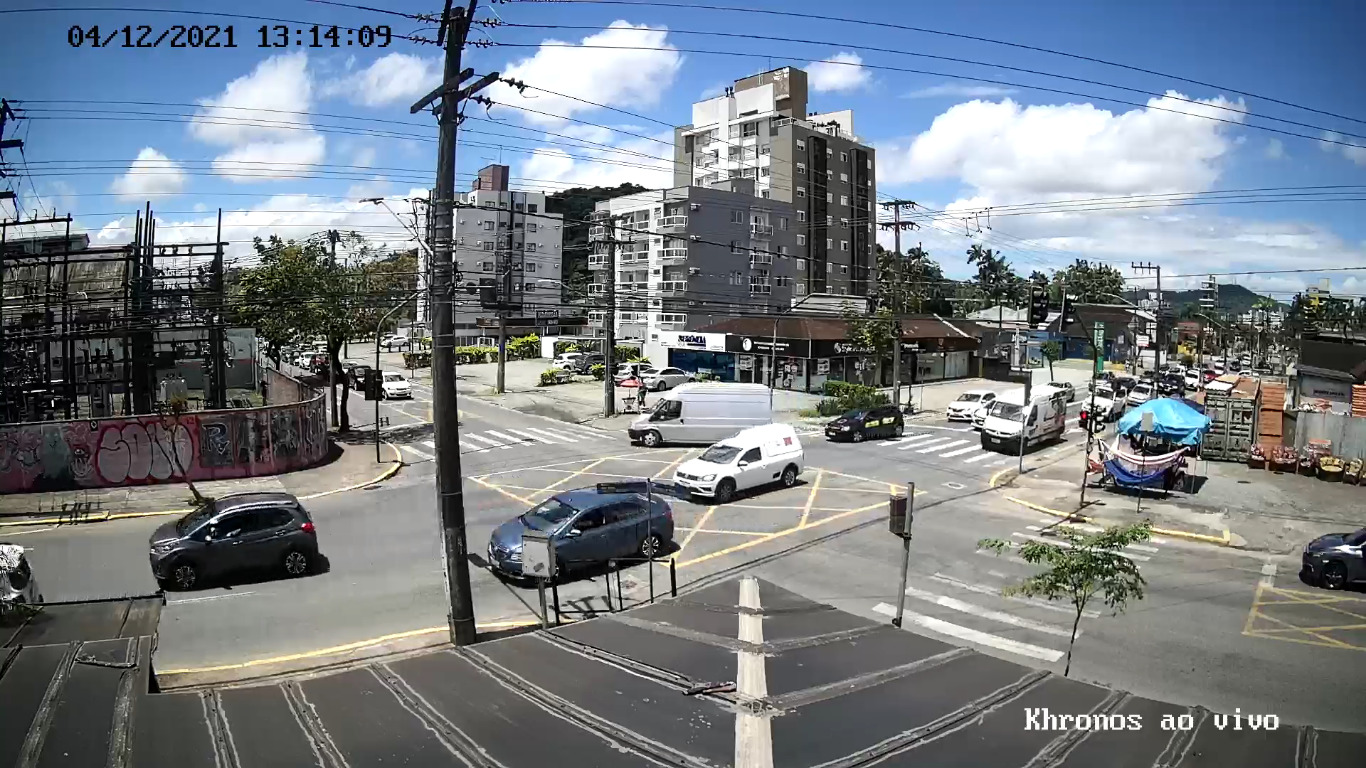car: (487, 483, 673, 586), (150, 491, 321, 587), (672, 422, 803, 504), (1303, 526, 1366, 588)
